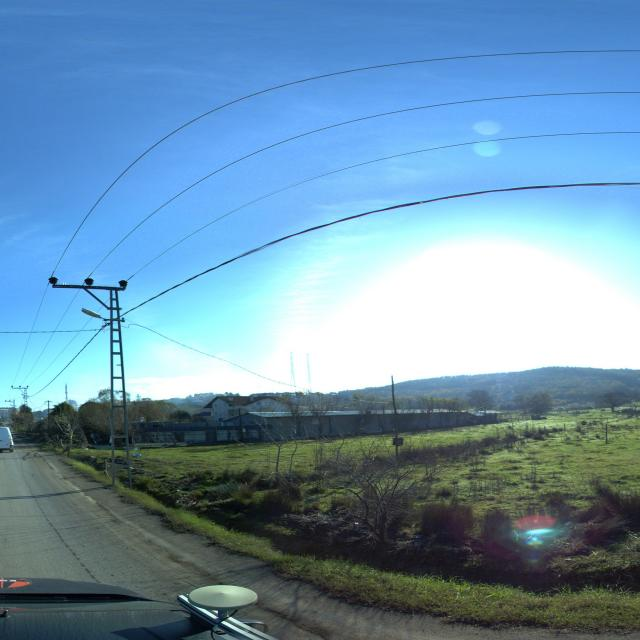Utility Pole Information Plate: (109, 402, 112, 410)
